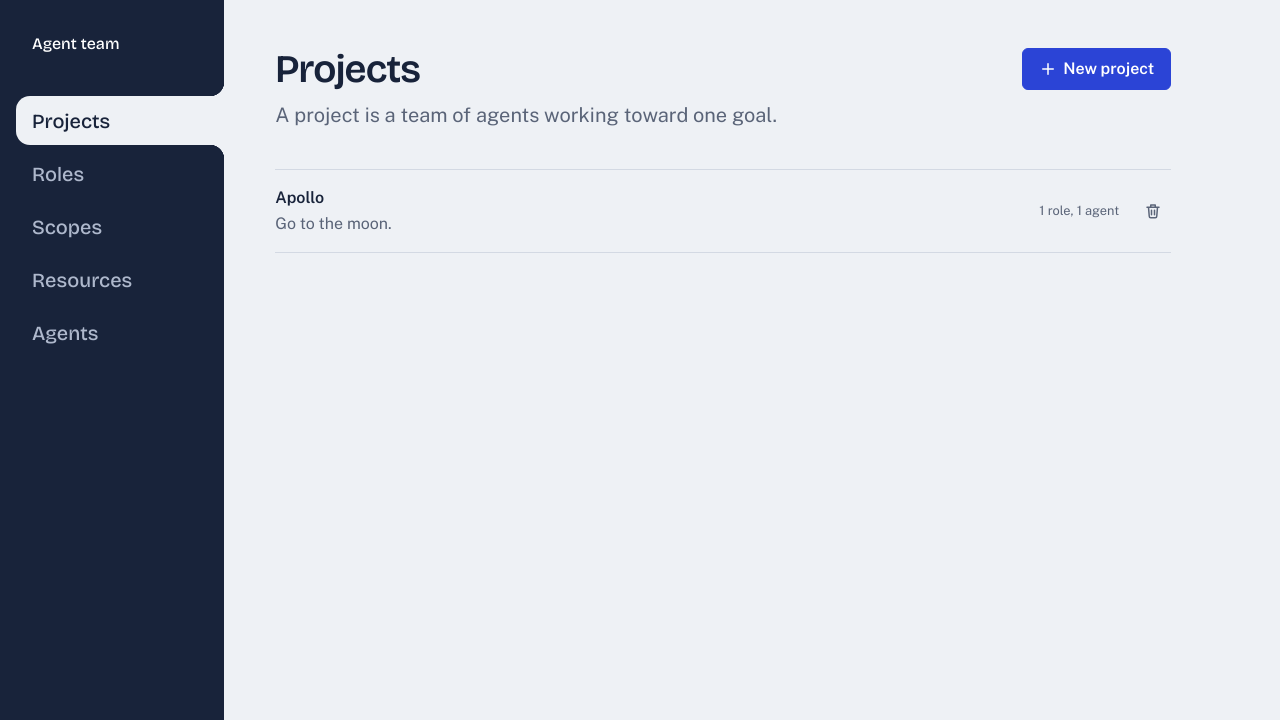
Test case: projects › explains instead of deleting a project that still has agents
This screenshot has width=1280, height=720.
Click the button named "Delete Apollo".
click(1153, 211)  # box [1135,193,1171,229]
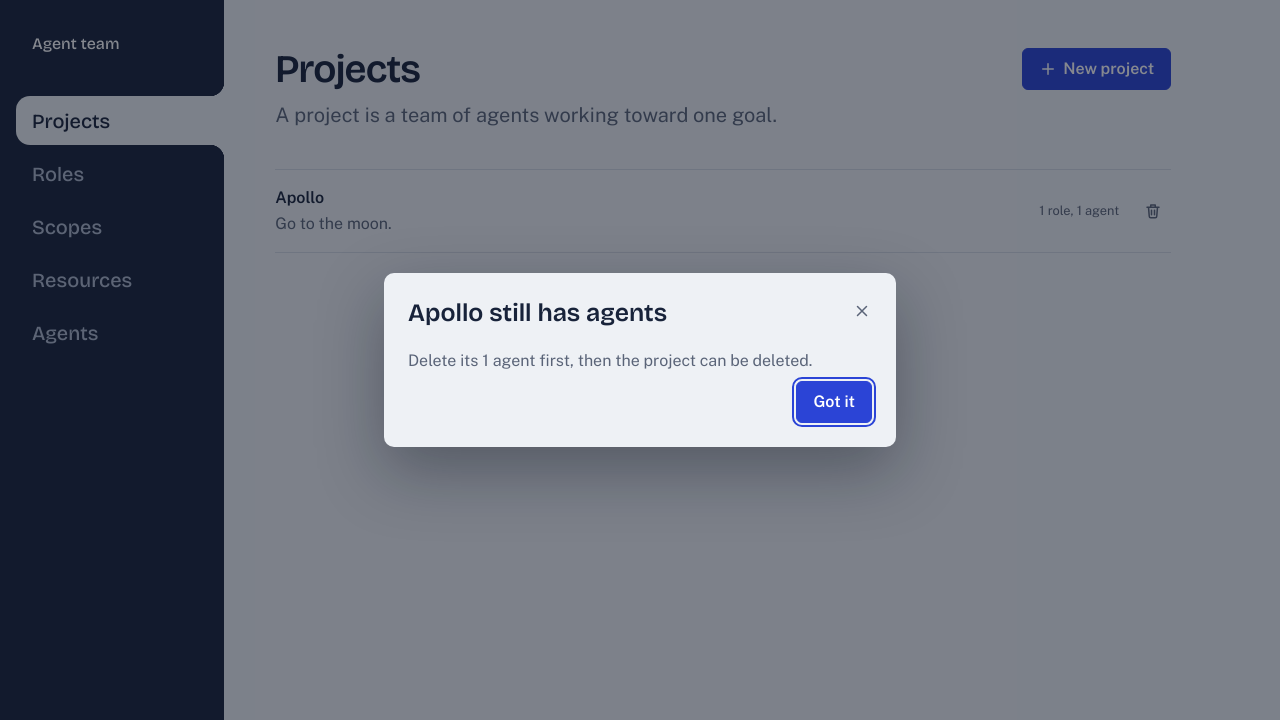
Expected: the dialog "Apollo still has agents" is shown, [384,273,896,447]
